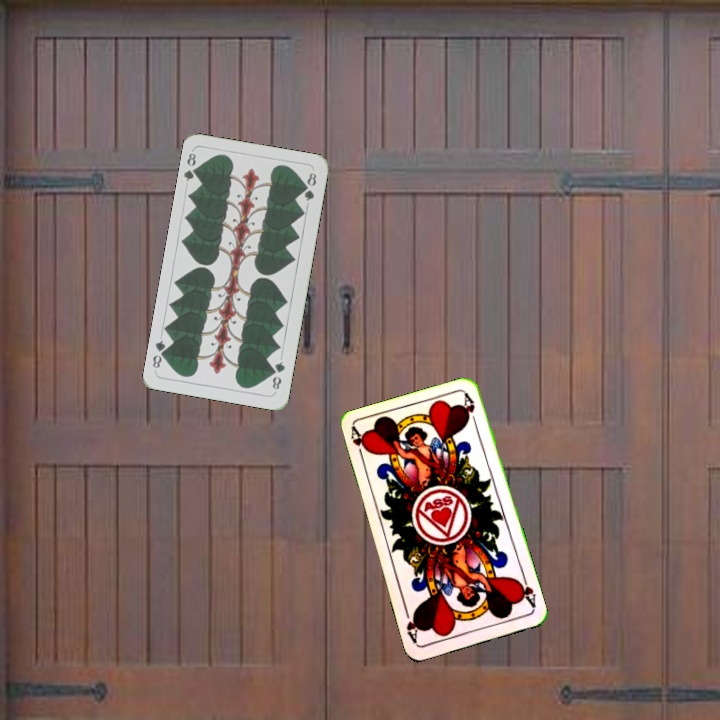G8: (180, 149, 202, 184), (268, 357, 288, 392)
HA: (513, 571, 539, 610), (346, 424, 369, 465)
